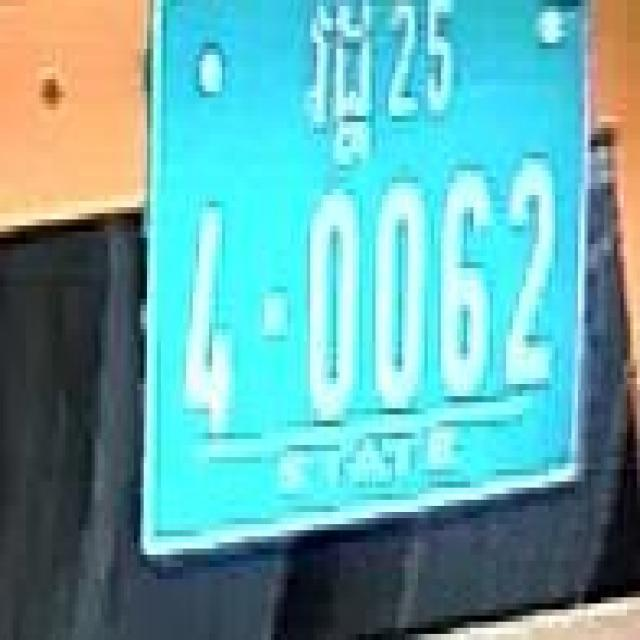State: (304, 0, 378, 170)
